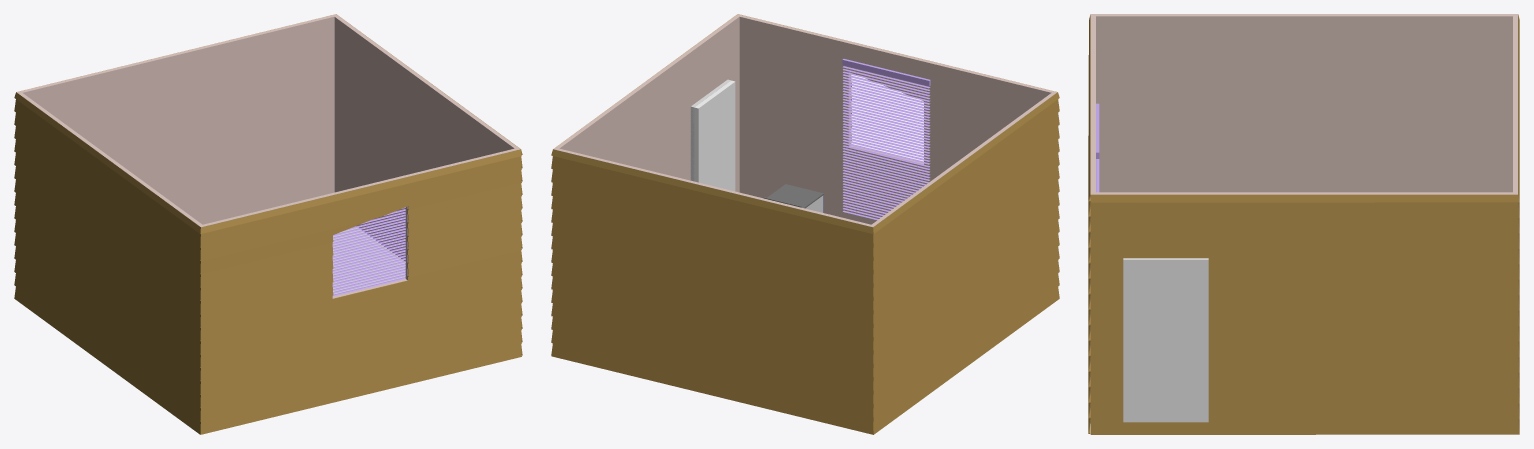
Rendered from Diagnostics scene2.fbx.
3 renders of one model, left to right at view 1: azimuth 30°, elevation 25°; view 2: azimuth 150°, elevation 25°; view 3: azimuth 270°, elevation 25°, orthographic. The views are drawn at different scales.
Parts seen in each view (by area): view 1: Wall_cover, Room, Venetian_slats, Baseboard; view 2: Wall_cover, Room, Venetian_slats, CTRL_Hole.001, Countertop1, VenetianFrame; view 3: Wall_cover, Room, CTRL_Hole.001.
Part boxes in pixels (left/top/right/bottom): Wall_cover: left=14, top=14, right=522, bottom=434; Room: left=16, top=14, right=520, bottom=298; Venetian_slats: left=332, top=207, right=405, bottom=296; Baseboard: left=332, top=227, right=405, bottom=294; Wall_cover: left=551, top=14, right=1059, bottom=434; Room: left=553, top=14, right=1057, bottom=227; Venetian_slats: left=843, top=66, right=930, bottom=220; CTRL_Hole.001: left=690, top=80, right=735, bottom=191; Countertop1: left=762, top=184, right=823, bottom=208; VenetianFrame: left=842, top=59, right=930, bottom=86; Wall_cover: left=1088, top=14, right=1519, bottom=434; Room: left=1090, top=14, right=1517, bottom=194; CTRL_Hole.001: left=1123, top=258, right=1208, bottom=422.
Bounding box in the file's own units: 514 × 309 × 505.
